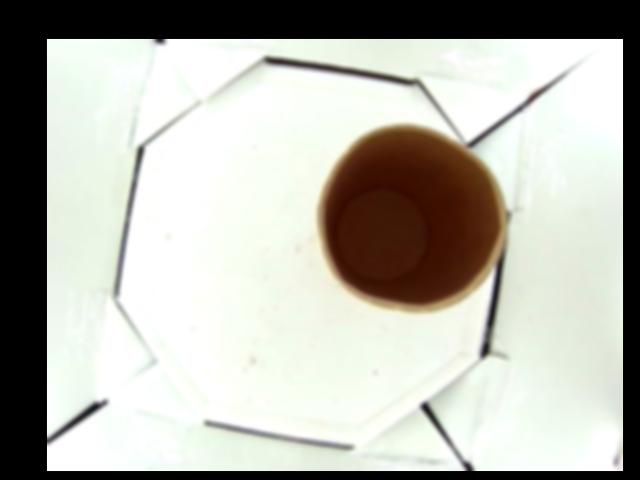Cup: (315, 124, 506, 309)
